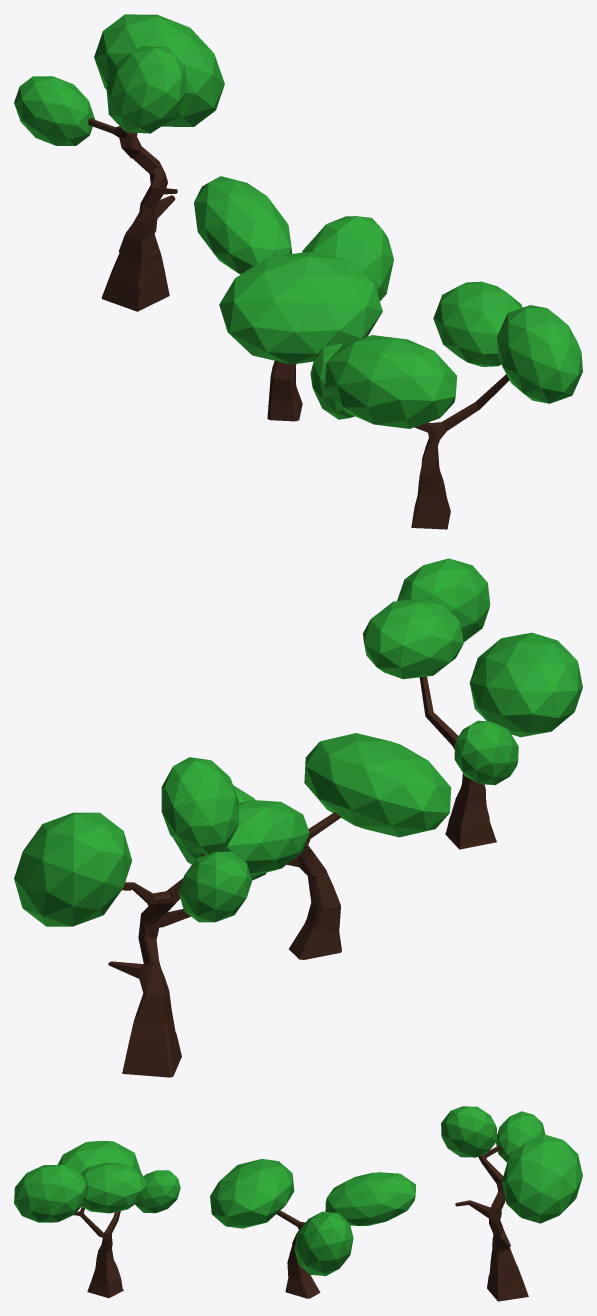
Rendered from tree_variants.fbx.
The picture shows the model from 3 angles, top to bottom: view 1: azimuth 30°, elevation 25°; view 2: azimuth 150°, elevation 25°; view 3: azimuth 270°, elevation 25°; orthographic projection. The views are drawn at different scales.
Visible parts, largest first — view 1: Icosphere.002, Icosphere.005, Icosphere.009, Icosphere.001, Icosphere.006, tree_with_modifier.001, Icosphere.008, Icosphere.004, Icosphere.007, Icosphere, tree_with_modifier, tree (+1 smaller); view 2: Icosphere.002, Icosphere.009, Icosphere.005, tree_with_modifier.001, Icosphere.004, Icosphere.008, Icosphere.001, Icosphere.006, Icosphere.007, tree, Icosphere.003, tree_with_modifier; view 3: Icosphere.009, Icosphere.002, Icosphere.001, Icosphere.006, tree_with_modifier.001, Icosphere, Icosphere.004, Icosphere.008, tree_with_modifier, Icosphere.005, Icosphere.007, Icosphere.003 (+1 smaller).
Boxes of the visible parts, left/top/right/bottom form: Icosphere.002: left=219, top=251, right=382, bottom=364; Icosphere.005: left=324, top=335, right=457, bottom=428; Icosphere.009: left=94, top=14, right=224, bottom=126; Icosphere.001: left=194, top=176, right=292, bottom=274; Icosphere.006: left=497, top=305, right=582, bottom=403; tree_with_modifier.001: left=88, top=118, right=177, bottom=311; Icosphere.008: left=106, top=46, right=186, bottom=133; Icosphere.004: left=433, top=281, right=522, bottom=366; Icosphere.007: left=14, top=76, right=95, bottom=145; Icosphere: left=302, top=216, right=393, bottom=300; tree_with_modifier: left=411, top=374, right=509, bottom=529; tree: left=267, top=361, right=302, bottom=421; Icosphere.002: left=304, top=733, right=451, bottom=837; Icosphere.009: left=14, top=812, right=132, bottom=926; Icosphere.005: left=469, top=632, right=582, bottom=737; tree_with_modifier.001: left=108, top=854, right=206, bottom=1077; Icosphere.004: left=363, top=598, right=463, bottom=679; Icosphere.008: left=161, top=757, right=238, bottom=854; Icosphere.001: left=218, top=800, right=309, bottom=875; Icosphere.006: left=397, top=558, right=490, bottom=642; Icosphere.007: left=178, top=851, right=251, bottom=922; tree: left=287, top=812, right=341, bottom=959; Icosphere.003: left=454, top=720, right=518, bottom=785; tree_with_modifier: left=419, top=676, right=496, bottom=849; Icosphere.009: left=501, top=1134, right=582, bottom=1223; Icosphere.002: left=210, top=1159, right=294, bottom=1228; Icosphere.001: left=325, top=1172, right=415, bottom=1225; Icosphere.006: left=14, top=1164, right=85, bottom=1222; tree_with_modifier.001: left=455, top=1145, right=528, bottom=1301; Icosphere: left=294, top=1211, right=353, bottom=1275; Icosphere.004: left=81, top=1162, right=147, bottom=1213; Icosphere.008: left=441, top=1106, right=497, bottom=1157; tree_with_modifier: left=74, top=1207, right=123, bottom=1298; Icosphere.005: left=57, top=1141, right=140, bottom=1172; Icosphere.007: left=496, top=1111, right=545, bottom=1162; Icosphere.003: left=135, top=1170, right=180, bottom=1213.
Size of the model in its own units: 1186 by 1402 by 3945.
